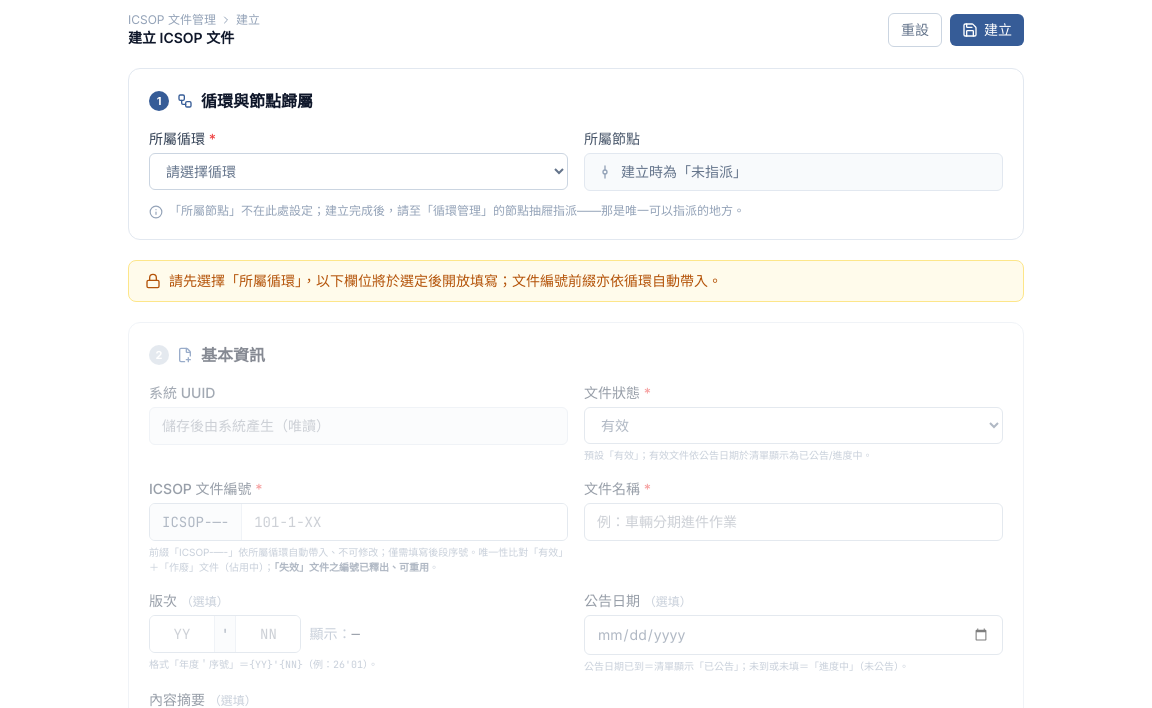
Scenario: DocumentCreatePage — F010 AC-S4 第二段（子分類）之呈現與選項值 › DOM 掛鉤 #subWrap／#f_cycleSub 於第二段呈現時存在（§6.19）
Select "銷售及收款循環" in the dropdown named "所屬循環－循環名稱": (358, 172) [149, 153, 568, 190]
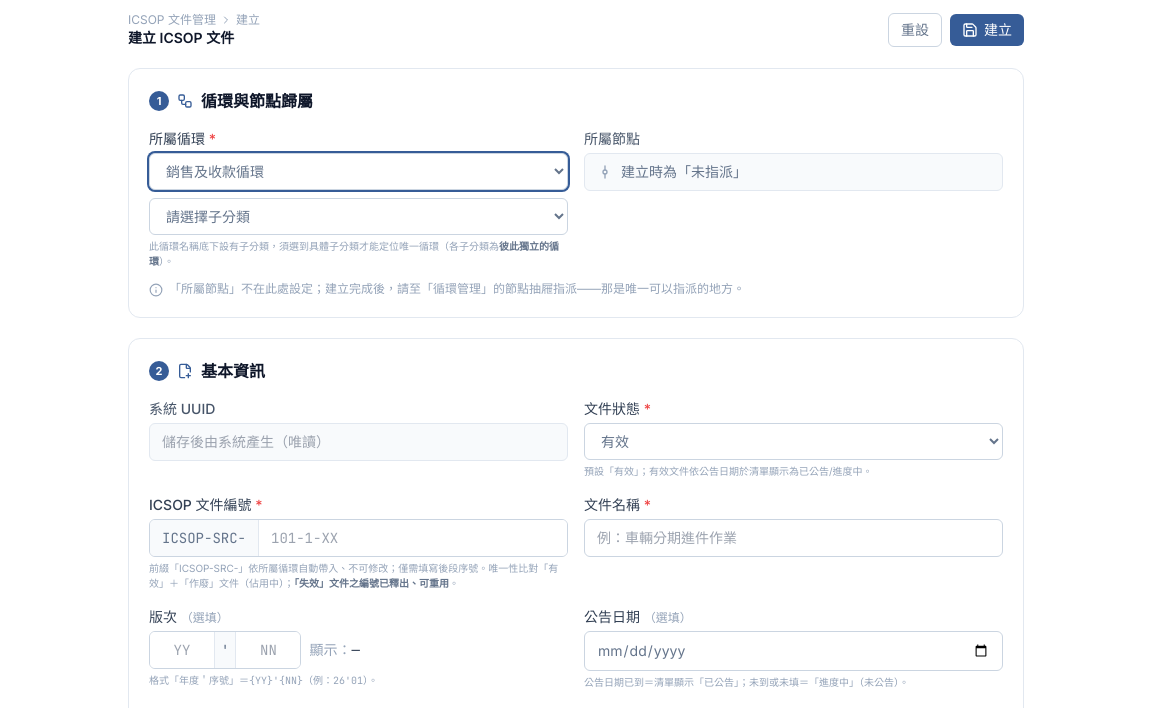
Result: the element with id "subWrap" is shown at [149, 198, 568, 269]
Result: the dropdown named "所屬循環－子分類" is shown at [149, 198, 568, 235]
